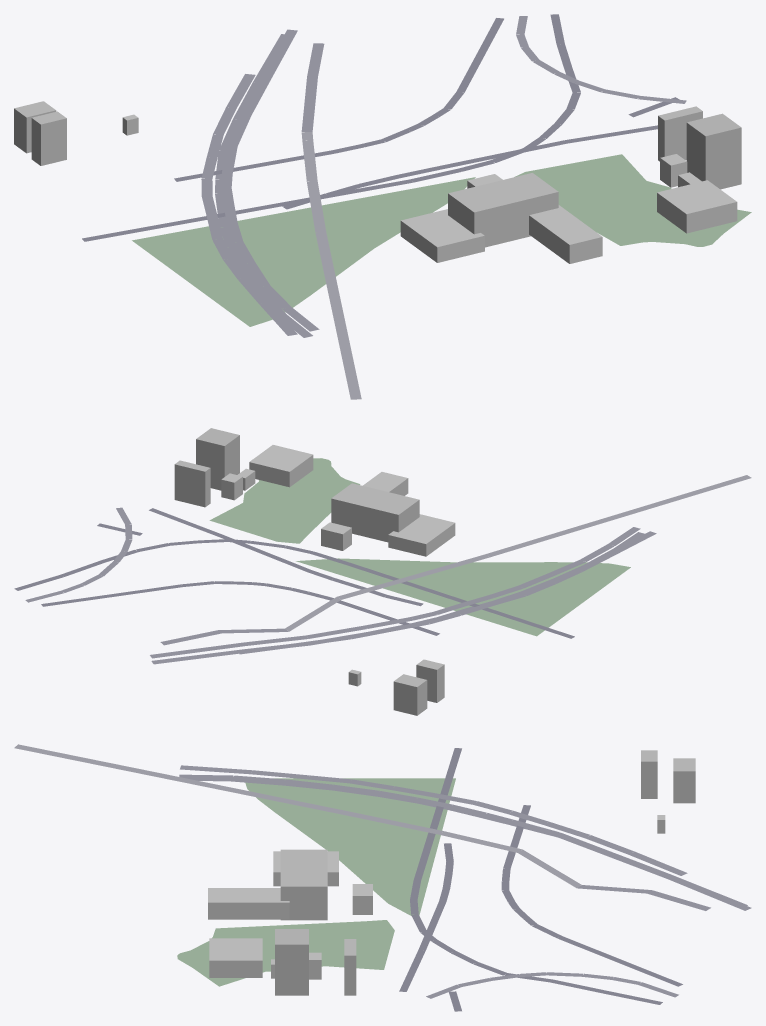
The model's file is 129_87_mid.glb.
The picture shows the model from 3 angles, top to bottom: view 1: azimuth 30°, elevation 25°; view 2: azimuth 150°, elevation 25°; view 3: azimuth 270°, elevation 25°; orthographic projection. The views are drawn at different scales.
Bounding box in the file's own units: 564 × 61.85 × 675.
